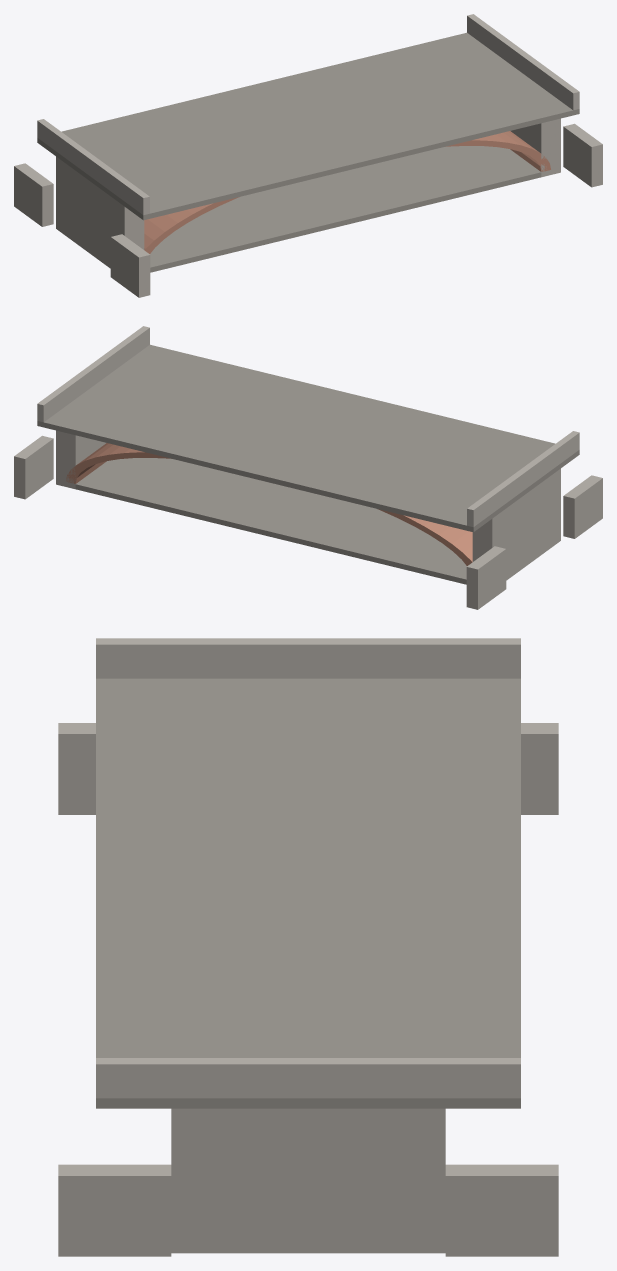
File: cp_dalehead_arch.glb
The picture shows the model from 3 angles, top to bottom: view 1: azimuth 30°, elevation 25°; view 2: azimuth 150°, elevation 25°; view 3: azimuth 270°, elevation 25°; orthographic projection. The views are drawn at different scales.
Visible parts, largest first — view 1: DaleheadArch; view 2: DaleheadArch; view 3: DaleheadArch.
Boxes of the visible parts, bbox=[...] form: DaleheadArch: bbox=[14, 14, 602, 297]; DaleheadArch: bbox=[14, 326, 602, 609]; DaleheadArch: bbox=[58, 638, 558, 1256].
Bounding box in the file's own units: 28.5 × 5.55 × 13.3.
